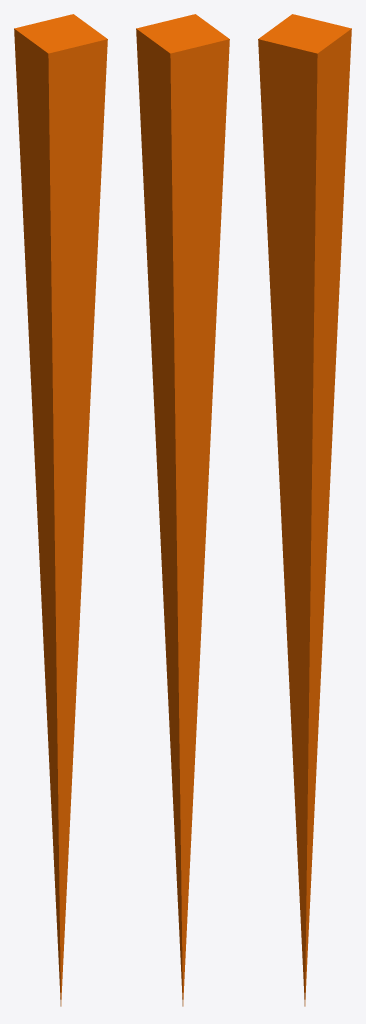
The model's file is Pin.fbx.
3 renders of one model, left to right at view 1: azimuth 30°, elevation 25°; view 2: azimuth 210°, elevation 25°; view 3: azimuth 330°, elevation 25°, orthographic.
Visible parts, largest first — view 1: Pin; view 2: Pin; view 3: Pin.
Boxes of the visible parts, box(x1,y1,x2,y2) form: Pin: box(14, 14, 107, 1006); Pin: box(136, 14, 229, 1006); Pin: box(258, 14, 351, 1006).
Size of the model in its own units: 44.69 by 701 by 44.69.
